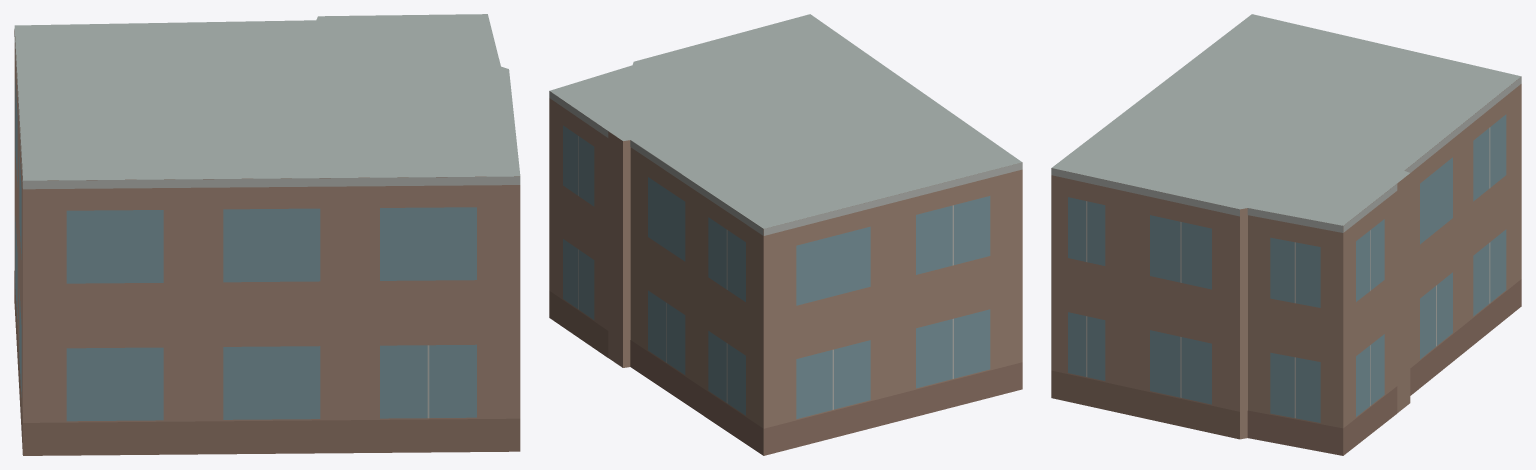
File: survey-upis-32634754.glb
3 views of the same model, side by side, from view 1: azimuth 30°, elevation 25°; view 2: azimuth 150°, elevation 25°; view 3: azimuth 270°, elevation 25° (orthographic). The views are drawn at different scales.
Visible parts, largest first — view 1: survey-upis-32634754.tmp; view 2: survey-upis-32634754.tmp; view 3: survey-upis-32634754.tmp.
Boxes of the visible parts, x1=… form: survey-upis-32634754.tmp: x1=14, y1=14, x2=520, y2=455; survey-upis-32634754.tmp: x1=549, y1=14, x2=1022, y2=455; survey-upis-32634754.tmp: x1=1051, y1=14, x2=1521, y2=455.
Bounding box in the file's own units: 15.41 × 7.8 × 14.46.
